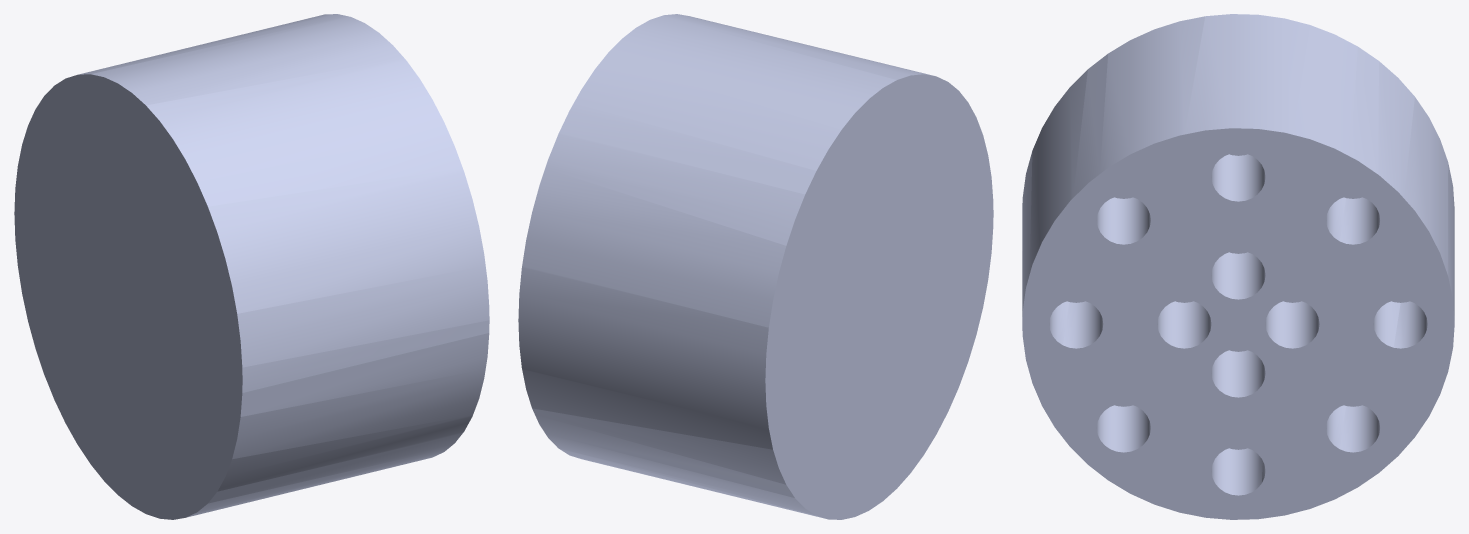
Rendered from effector_link.obj.
The picture shows the model from 3 angles, left to right: view 1: azimuth 30°, elevation 25°; view 2: azimuth 150°, elevation 25°; view 3: azimuth 270°, elevation 25°; orthographic projection. The views are drawn at different scales.
Visible parts, largest first — view 1: effector_link_3_DOF_ARM_END_EFFECTOR-1; view 2: effector_link_3_DOF_ARM_END_EFFECTOR-1; view 3: effector_link_3_DOF_ARM_END_EFFECTOR-1.
Boxes of the visible parts, bbox=[...] form: effector_link_3_DOF_ARM_END_EFFECTOR-1: bbox=[14, 14, 489, 519]; effector_link_3_DOF_ARM_END_EFFECTOR-1: bbox=[518, 14, 993, 519]; effector_link_3_DOF_ARM_END_EFFECTOR-1: bbox=[1022, 14, 1454, 519].
Size of the model in its own units: 0.025 by 0.04 by 0.04.
